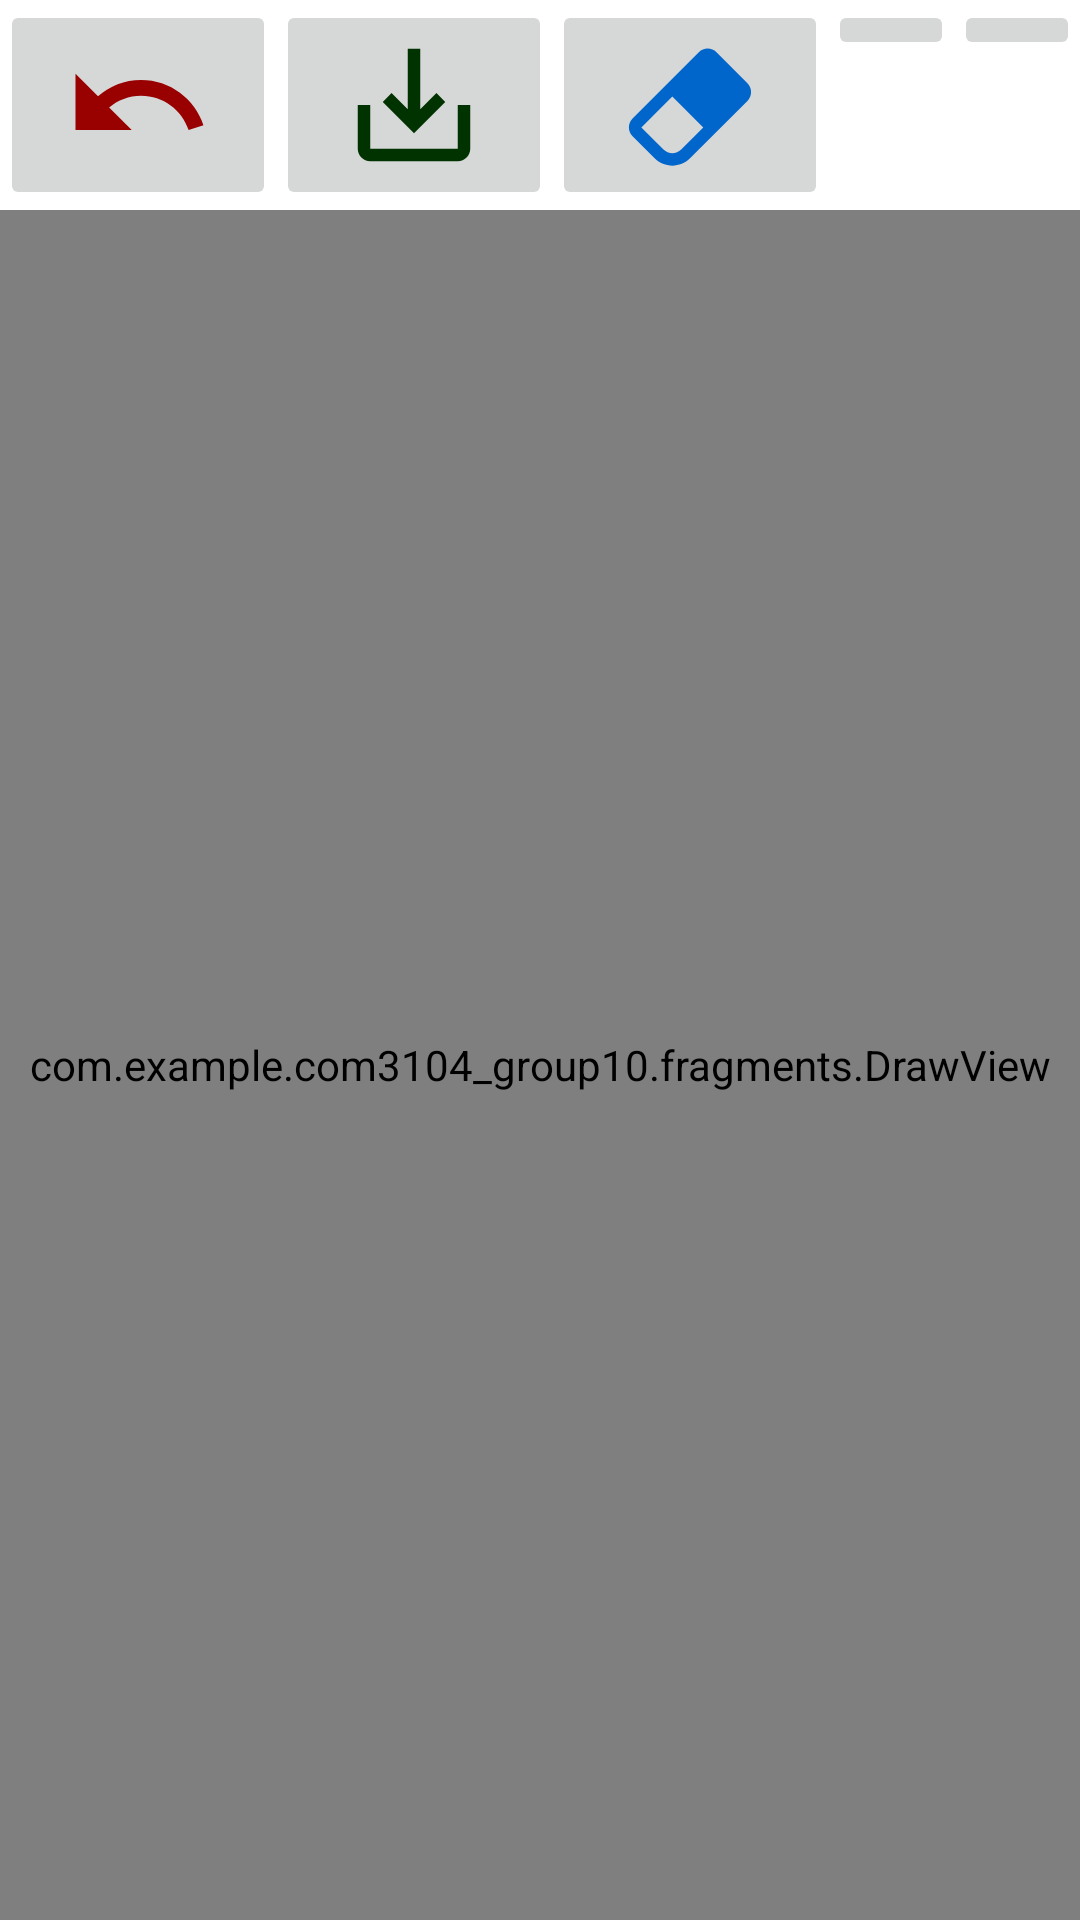

Icon click points for this 1080 × 1920 phone screenshot, format (x,y):
eraser: (690,105)
save: (414,105)
undo: (138,105)
